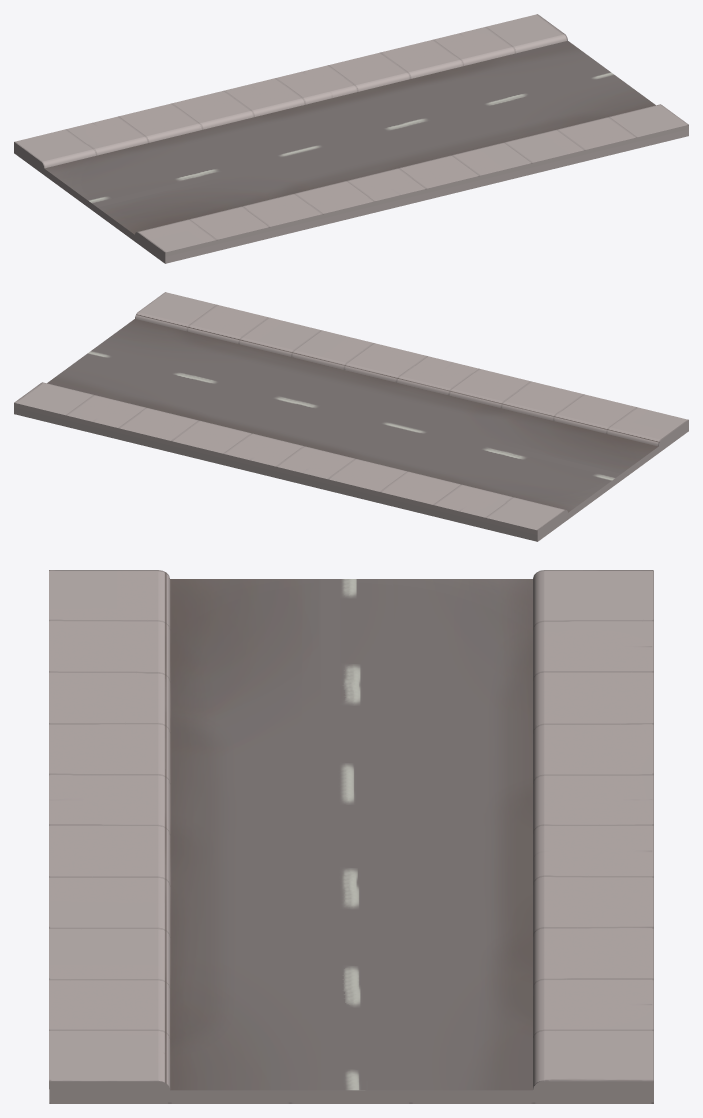
File: Street_Straight.fbx
3 renders of one model, top to bottom at view 1: azimuth 30°, elevation 25°; view 2: azimuth 150°, elevation 25°; view 3: azimuth 270°, elevation 25°, orthographic. The views are drawn at different scales.
Visible parts, largest first — view 1: Street_Straight; view 2: Street_Straight; view 3: Street_Straight.
Part boxes in pixels (x1=…): Street_Straight: x1=14, y1=14, x2=688, y2=263; Street_Straight: x1=14, y1=292, x2=688, y2=541; Street_Straight: x1=49, y1=570, x2=653, y2=1103.
Size of the model in its own units: 2000 by 41.5 by 1000.
